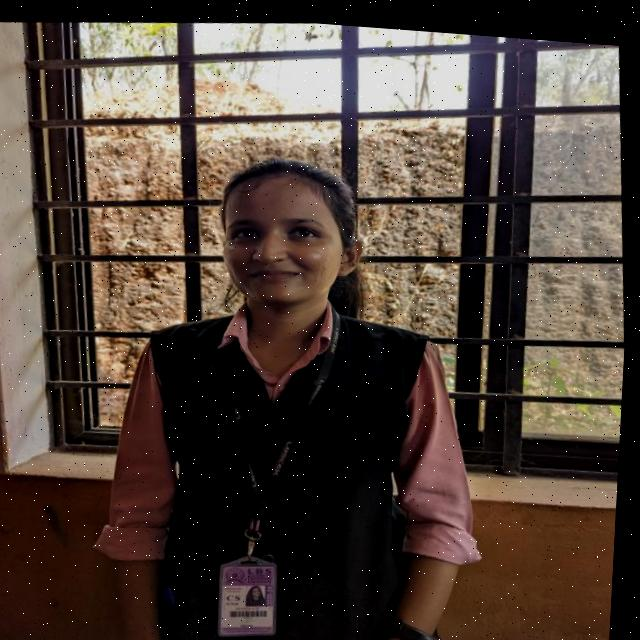id_card: (178, 292, 368, 640)
